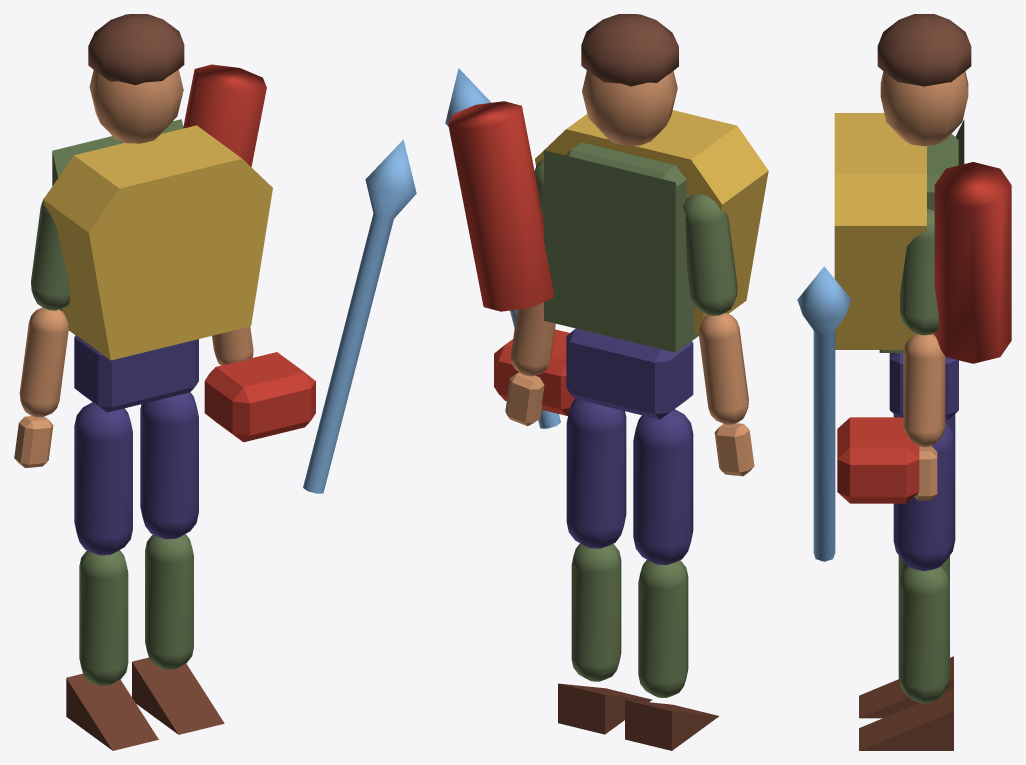
Rendered from adventurer.rustic.glb.
3 renders of one model, left to right at view 1: azimuth 30°, elevation 25°; view 2: azimuth 150°, elevation 25°; view 3: azimuth 270°, elevation 25°, orthographic.
Visible parts, largest first — view 1: accessory.body, accessory.main-hand, thigh.left, thigh.right, accessory.waist, pelvis, shin.left, shin.right, accessory.back, hair, head, foot.left (+6 smaller); view 2: tunic, accessory.back, accessory.body, pelvis, thigh.left, thigh.right, shin.right, shin.left, hair, upper-arm.left, head, forearm.left (+8 smaller); view 3: accessory.body, accessory.back, accessory.main-hand, accessory.waist, shin.right, hair, thigh.right, head, forearm.right, foot.right, upper-arm.right, pelvis (+4 smaller).
Part boxes in pixels (x1=…): accessory.body: x1=43, y1=125, x2=272, y2=360; accessory.main-hand: x1=303, y1=139, x2=416, y2=493; thigh.left: x1=74, y1=402, x2=132, y2=555; thigh.right: x1=140, y1=392, x2=198, y2=539; accessory.waist: x1=204, y1=352, x2=315, y2=442; pelvis: x1=74, y1=335, x2=198, y2=412; shin.left: x1=79, y1=550, x2=128, y2=685; shin.right: x1=145, y1=534, x2=193, y2=669; accessory.back: x1=183, y1=64, x2=266, y2=166; hair: x1=88, y1=14, x2=184, y2=85; head: x1=89, y1=69, x2=183, y2=143; foot.left: x1=66, y1=673, x2=158, y2=750; tunic: x1=544, y1=150, x2=698, y2=352; accessory.back: x1=448, y1=101, x2=554, y2=311; accessory.body: x1=535, y1=110, x2=768, y2=334; pelvis: x1=566, y1=328, x2=693, y2=419; thigh.left: x1=633, y1=409, x2=693, y2=564; thigh.right: x1=566, y1=399, x2=626, y2=548; shin.right: x1=571, y1=543, x2=621, y2=681; shin.left: x1=638, y1=560, x2=688, y2=697; hair: x1=581, y1=14, x2=678, y2=86; upper-arm.left: x1=683, y1=194, x2=737, y2=315; head: x1=582, y1=70, x2=677, y2=145; forearm.left: x1=699, y1=313, x2=748, y2=424; accessory.body: x1=834, y1=113, x2=926, y2=349; accessory.back: x1=934, y1=162, x2=1011, y2=363; accessory.main-hand: x1=797, y1=266, x2=851, y2=561; accessory.waist: x1=837, y1=417, x2=919, y2=503; shin.right: x1=898, y1=566, x2=949, y2=703; hair: x1=877, y1=14, x2=971, y2=86; thigh.right: x1=893, y1=423, x2=955, y2=571; head: x1=880, y1=71, x2=968, y2=146; forearm.right: x1=903, y1=334, x2=945, y2=447; foot.right: x1=859, y1=689, x2=953, y2=750; upper-arm.right: x1=900, y1=208, x2=939, y2=335; pelvis: x1=889, y1=353, x2=958, y2=419.
Bounding box in the file's own units: 1.59 × 3.03 × 0.8353.
